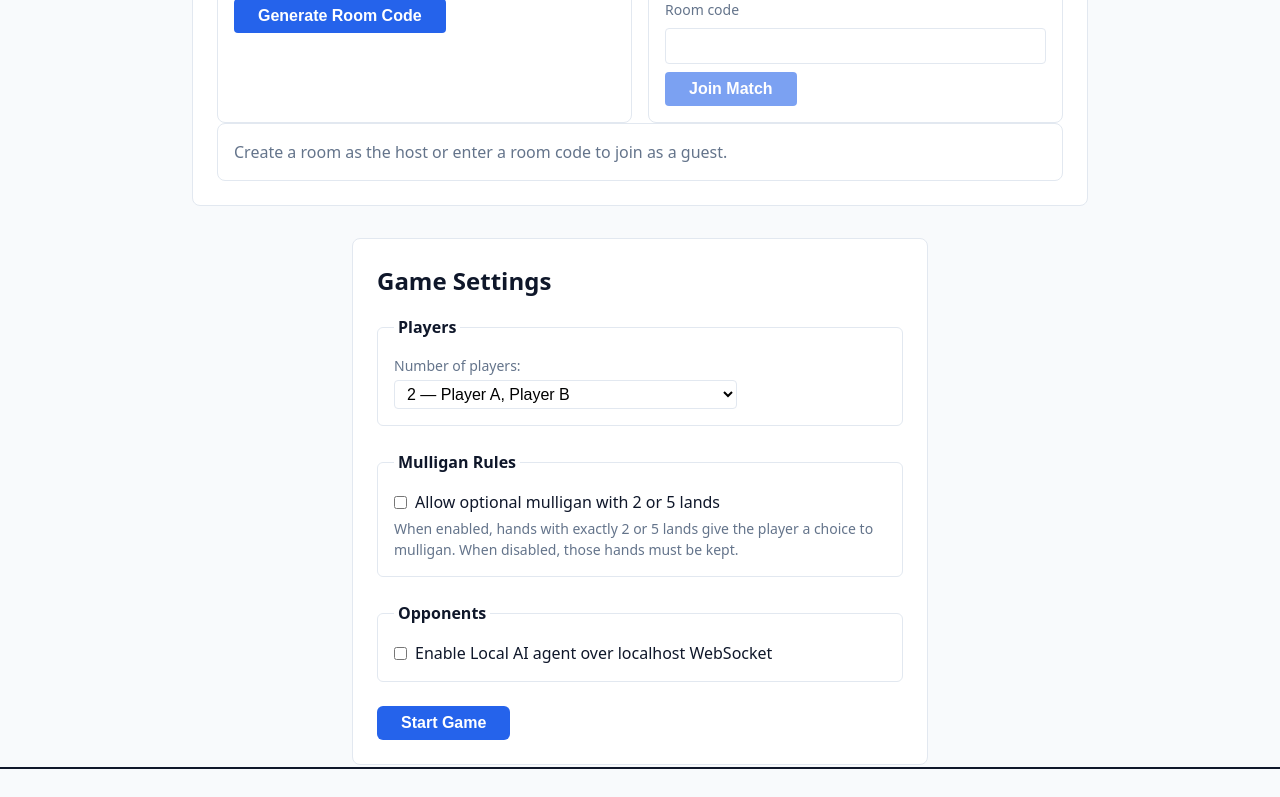
it: <App /> › shows the deck input view after confirming settings
(page scrolled)
Click the button "Start Game": (444, 723) [377,706,510,740]
(page scrolled)
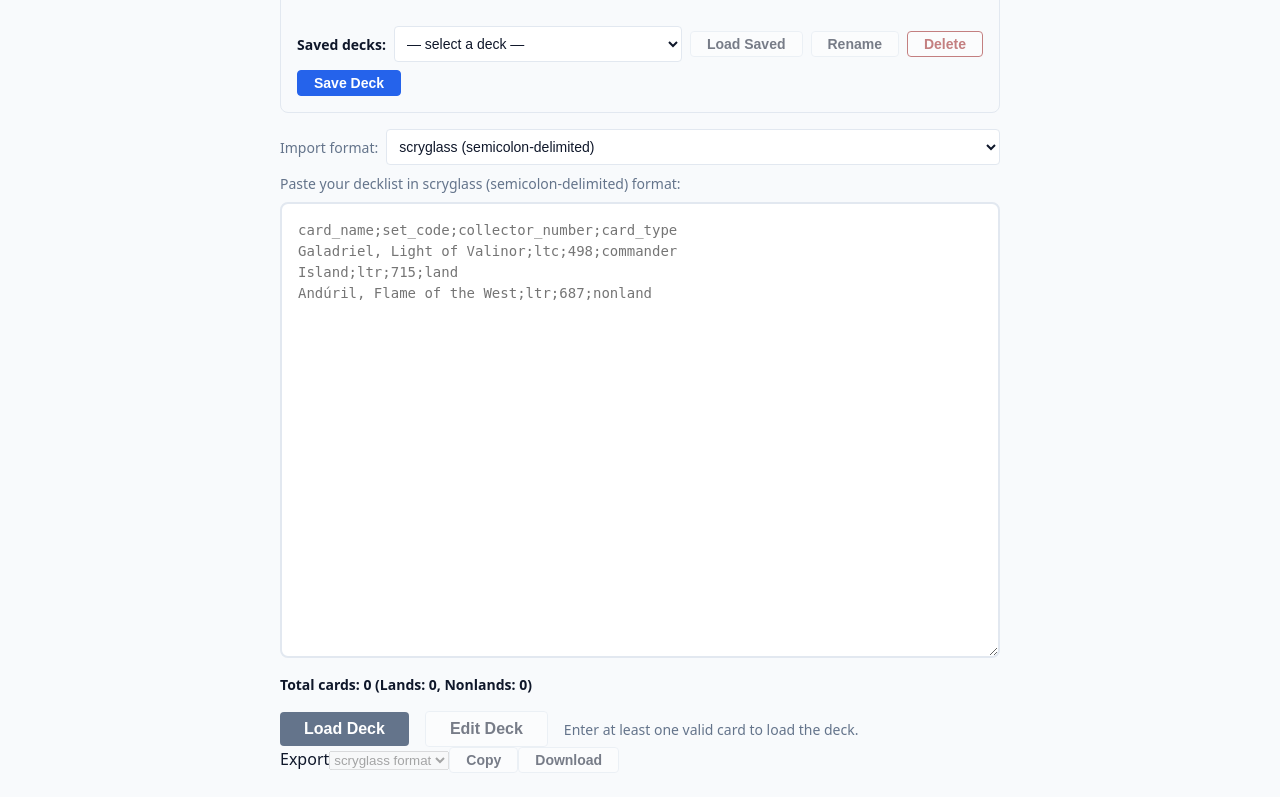
Now the text box labelled "Paste your decklist" is shown, box [280,202,1000,658]
